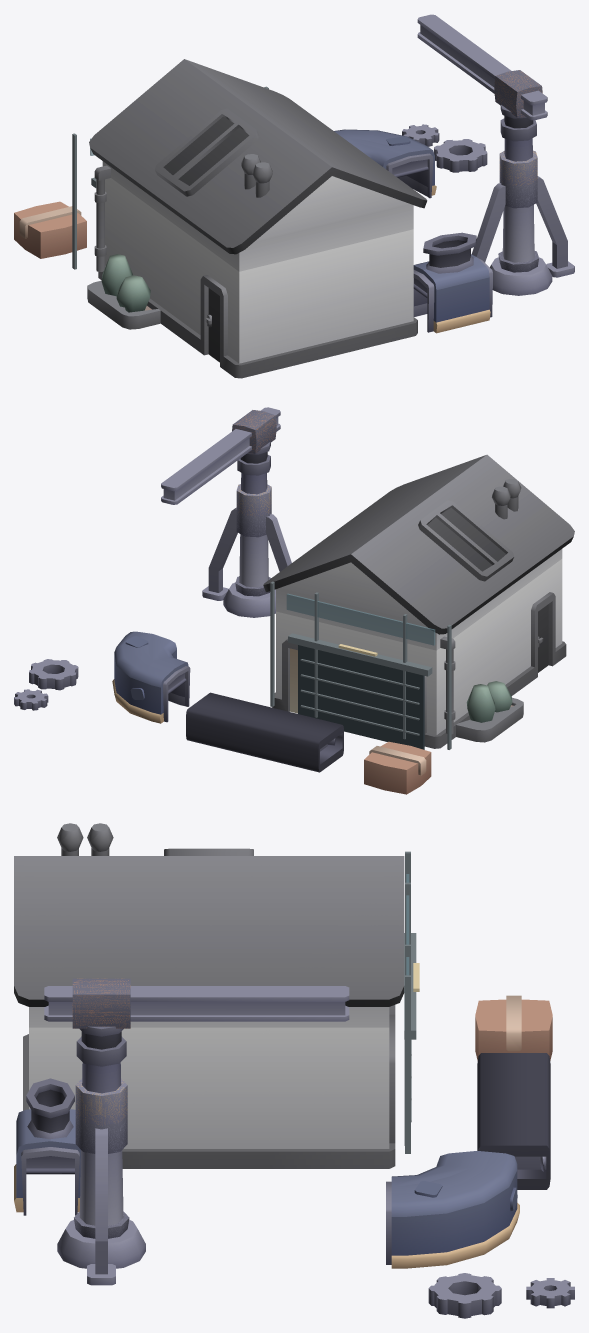
Rendered from machineWorks.glb.
The picture shows the model from 3 angles, top to bottom: view 1: azimuth 30°, elevation 25°; view 2: azimuth 150°, elevation 25°; view 3: azimuth 270°, elevation 25°; orthographic projection. The views are drawn at different scales.
Parts seen in each view (by area): view 1: low-0, high-1, high-0, low-1, medium-1, medium-0, high-3; view 2: low-0, medium-1, high-0, high-1, medium-2, low-1, high-3, medium-0, high-4; view 3: low-0, high-1, medium-1, low-1, high-0, high-3, medium-0.
Part boxes in pixels (x1,y1,x2,y2): low-0: [89, 59, 425, 378]; high-1: [14, 14, 574, 333]; high-0: [87, 59, 427, 378]; low-1: [417, 15, 573, 276]; medium-1: [344, 105, 551, 293]; medium-0: [87, 108, 417, 377]; high-3: [72, 86, 268, 269]; low-0: [265, 455, 574, 748]; medium-1: [30, 442, 343, 772]; high-0: [263, 456, 574, 748]; high-1: [14, 407, 431, 794]; medium-2: [298, 645, 424, 749]; low-1: [161, 408, 291, 600]; high-3: [270, 581, 451, 749]; medium-0: [282, 480, 568, 742]; high-4: [286, 593, 435, 645]; low-0: [14, 848, 404, 1168]; high-1: [14, 986, 574, 1318]; medium-1: [58, 1026, 550, 1315]; low-1: [48, 978, 345, 1285]; high-0: [14, 823, 404, 1168]; high-3: [404, 851, 416, 1153]; medium-0: [23, 823, 395, 1168].
Bounding box in the file's own units: 56 × 24.14 × 46.
6 materials, 2 textured.
